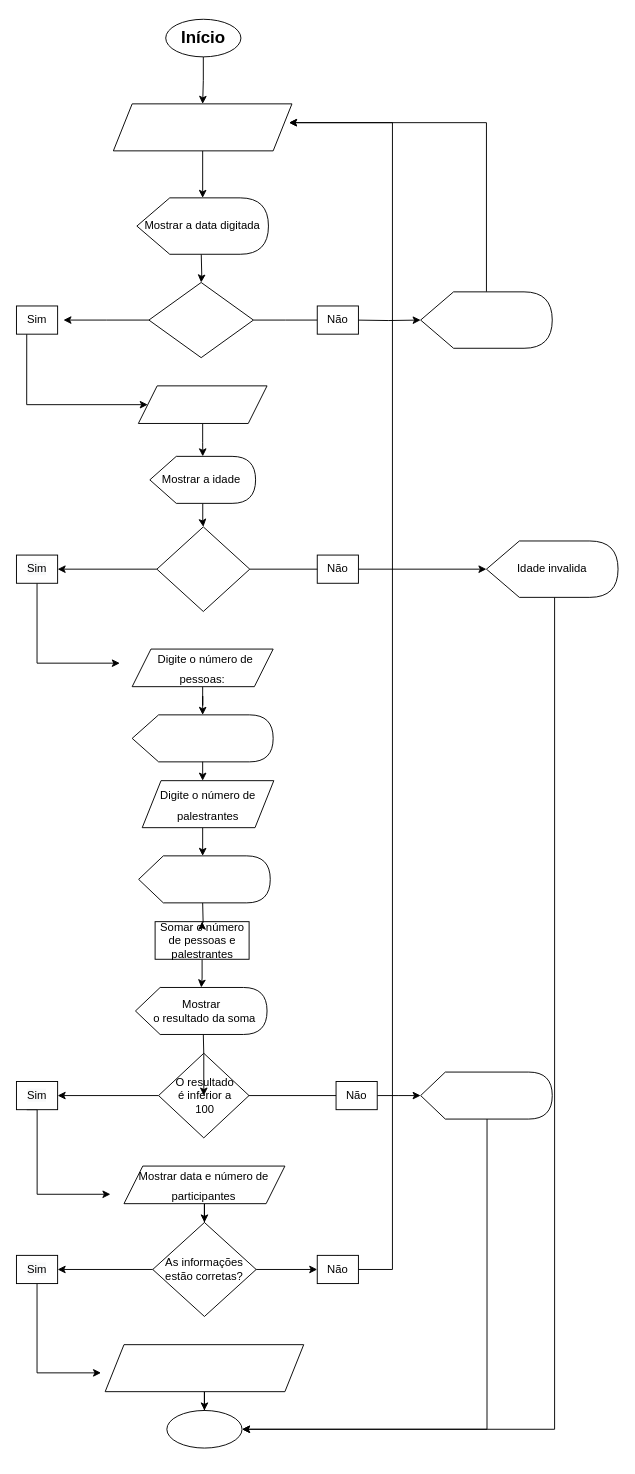
Image size: 635x1474. Some labels were removed from this diagram. Each missing label, with the box of its shape:
A data é posterior a atual ?: (148, 282, 253, 358)
data está invalida: (420, 291, 552, 348)
Digite a data que quer agendar: (112, 103, 292, 151)
Digite a sua idade:: (137, 385, 267, 423)
Fim: (166, 1410, 242, 1448)
limite excedido: (420, 1071, 552, 1119)
mostrar o número de palestrantes: (138, 855, 270, 903)
mostrar o número de pessoas: (131, 714, 273, 762)
Seu evento está agendado agradecemos por sua preferência: (104, 1344, 304, 1392)
É maior ou igual a 18 anos: (156, 526, 250, 611)
